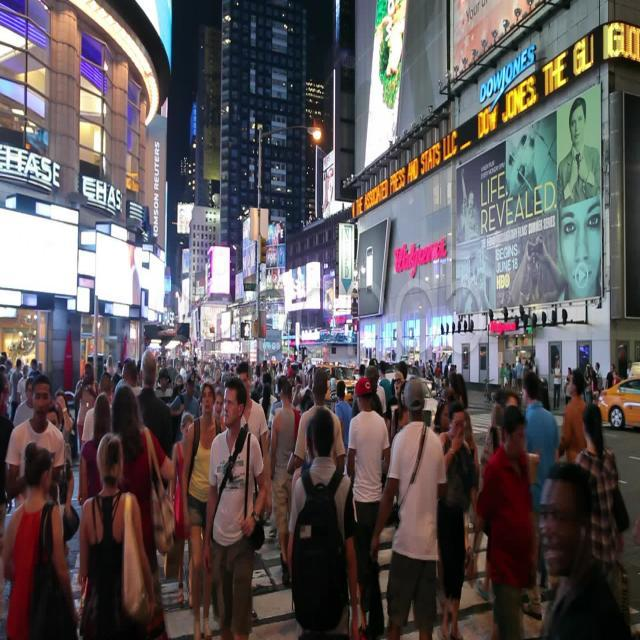Backpacks: (291, 486, 348, 630)
